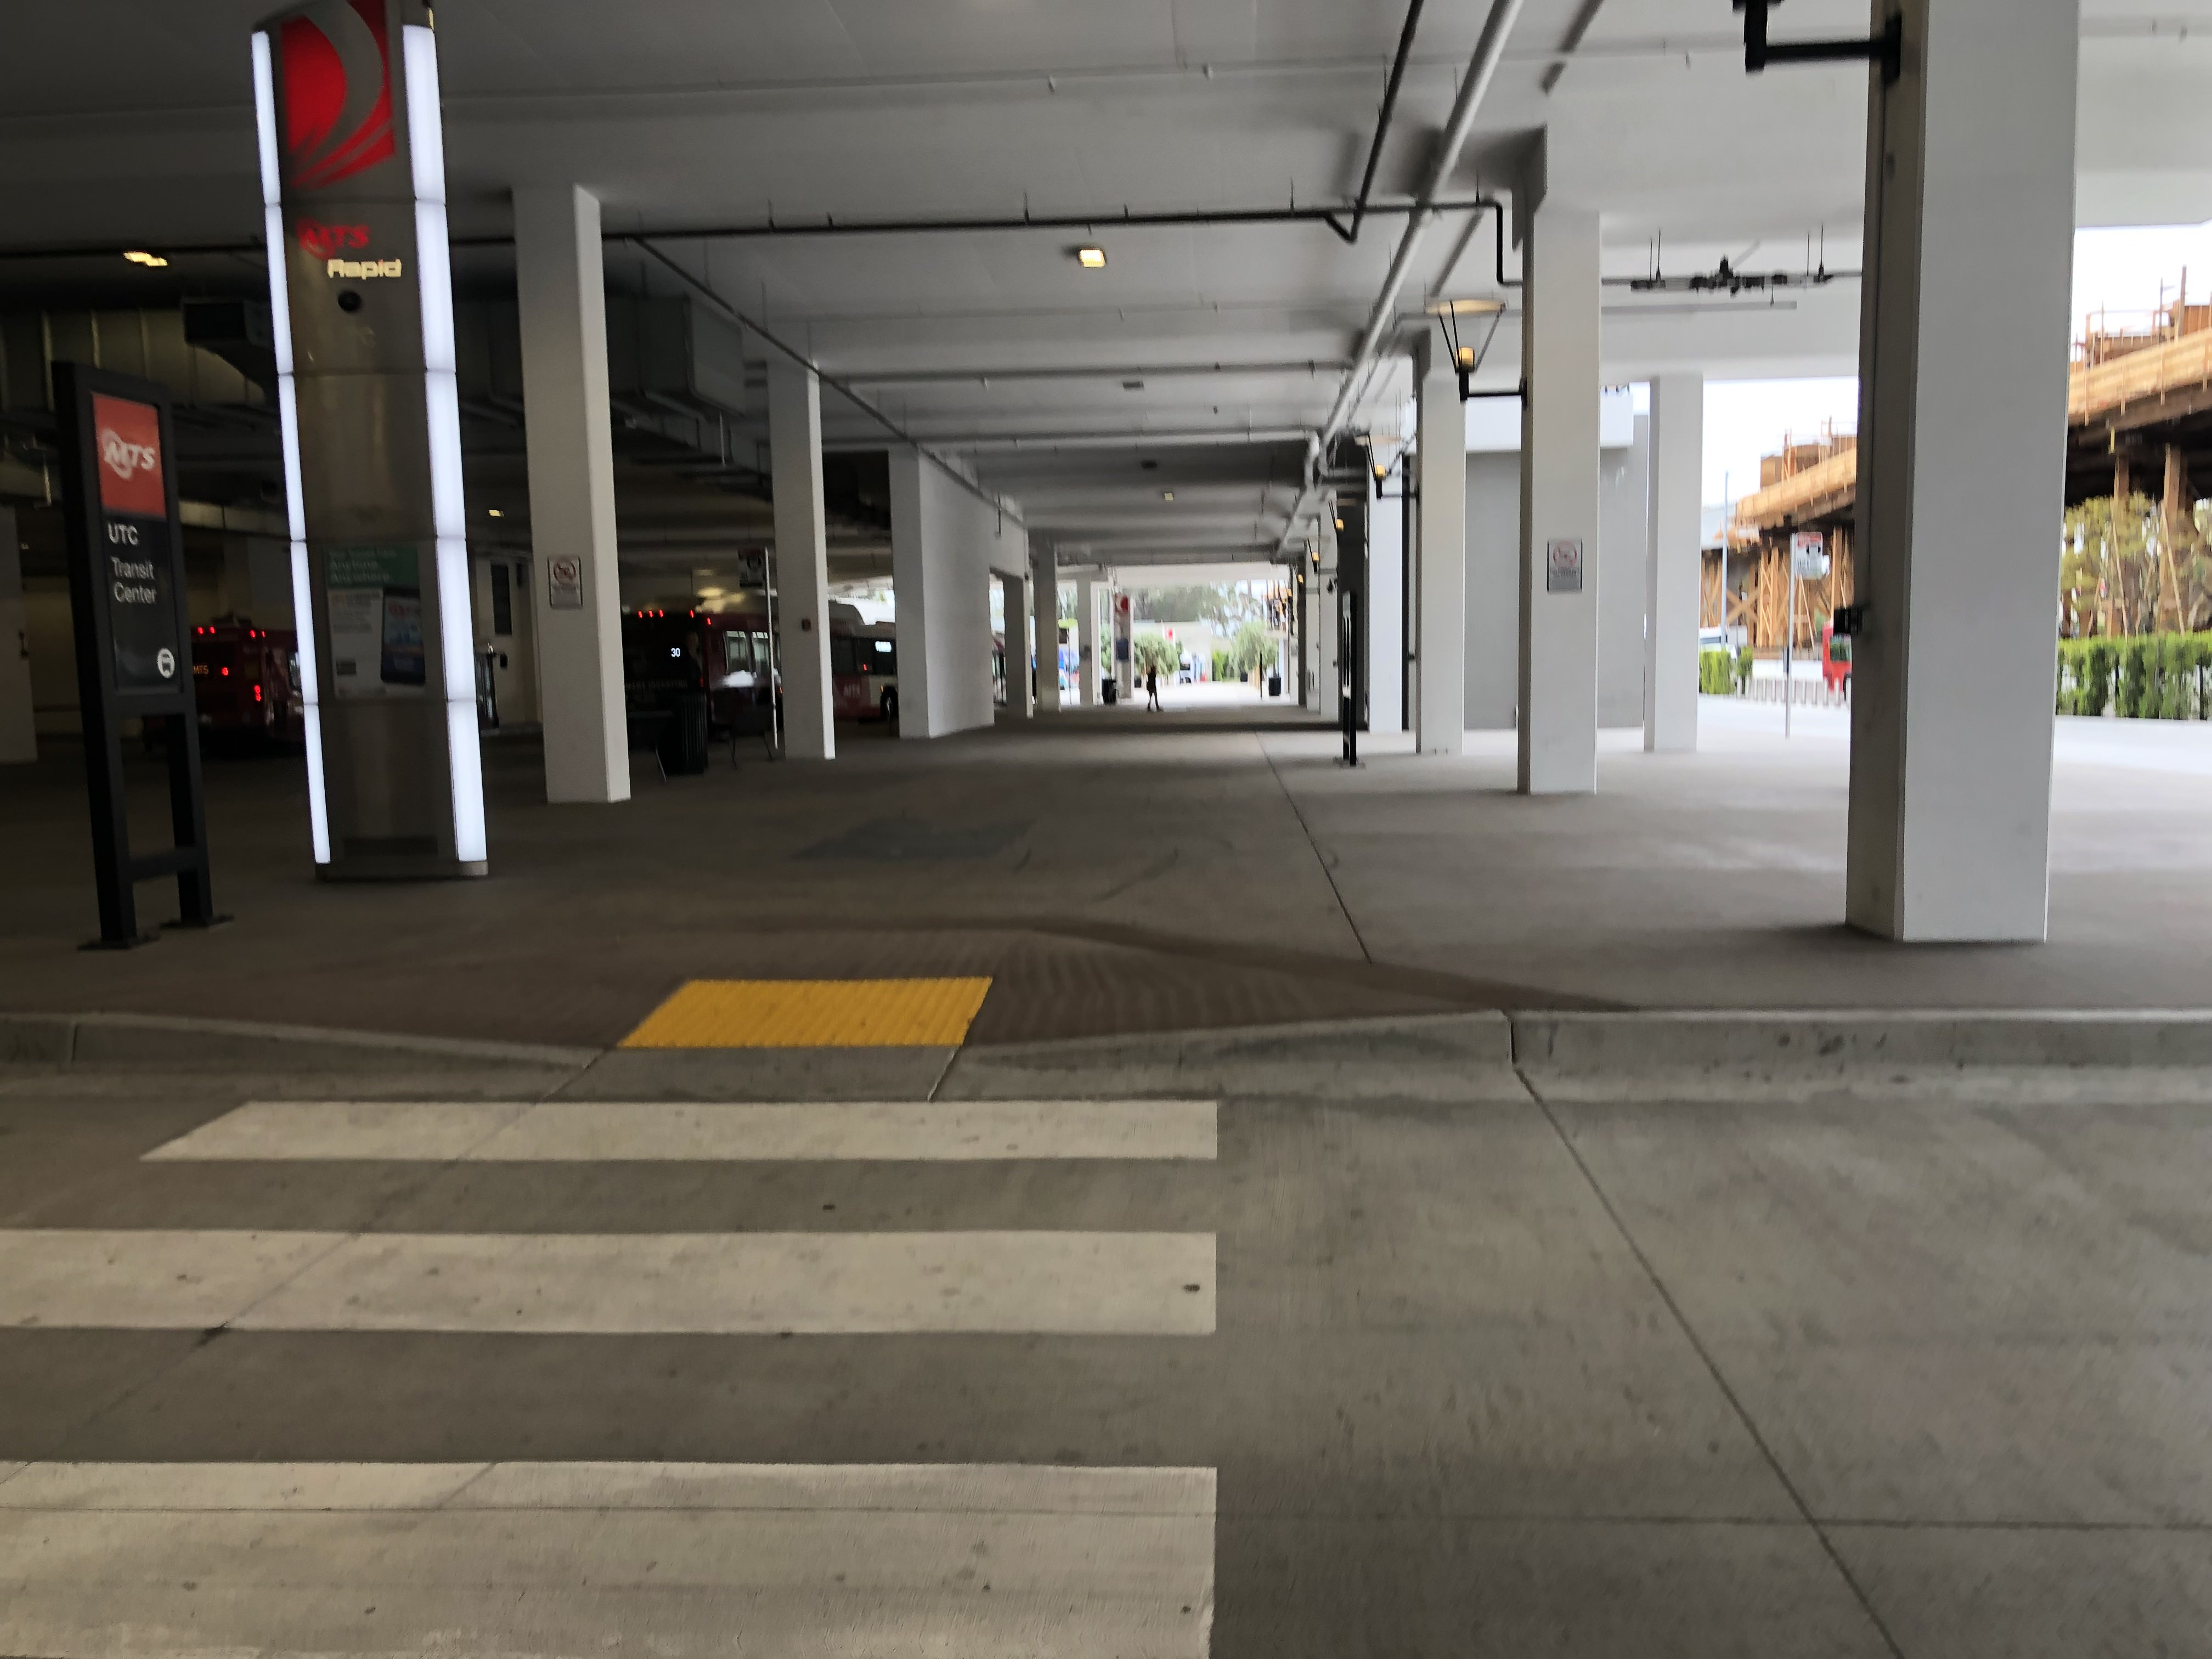Edge: (972, 981, 2207, 1073), (5, 1014, 594, 1061)
Obstacle: (254, 51, 495, 885), (1869, 9, 2045, 934), (54, 382, 212, 945), (503, 202, 648, 809), (1515, 171, 1595, 779), (744, 350, 841, 763), (892, 439, 995, 741), (1413, 331, 1470, 763), (1637, 378, 1698, 755)
